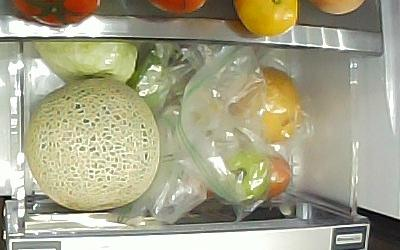cabbage: (29, 42, 138, 80)
melon: (24, 80, 162, 210)
pear_vinyl: (231, 67, 305, 145)
prune_vinyl: (268, 155, 292, 200)
tomato_vinyl: (218, 151, 269, 203)
